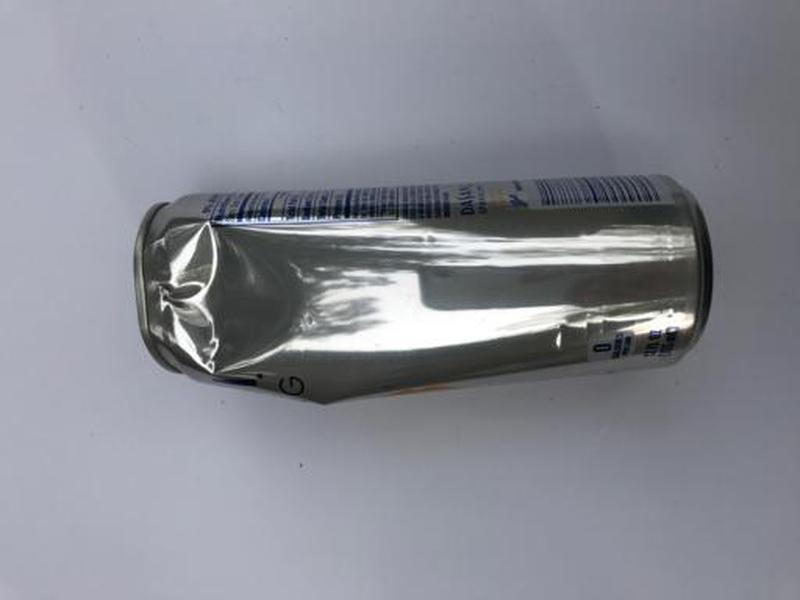can: (127, 171, 720, 409)
